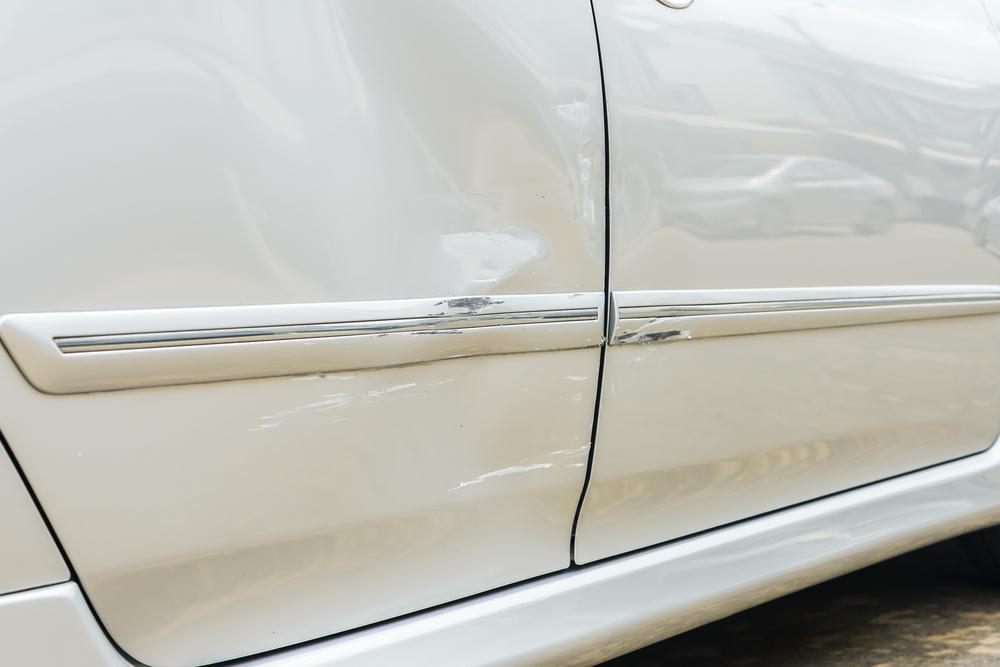dent: (228, 0, 578, 296)
scratch: (253, 291, 592, 486), (615, 310, 697, 349)
